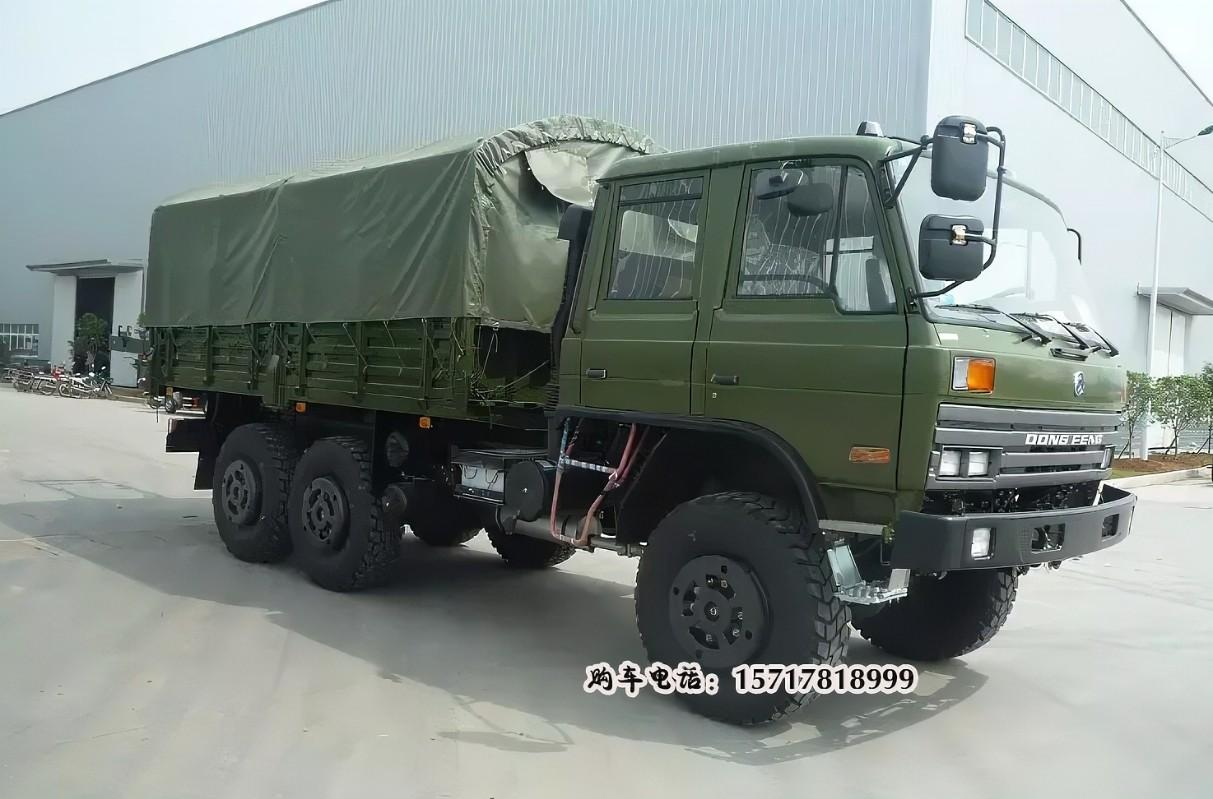truck: (104, 113, 1155, 734)
